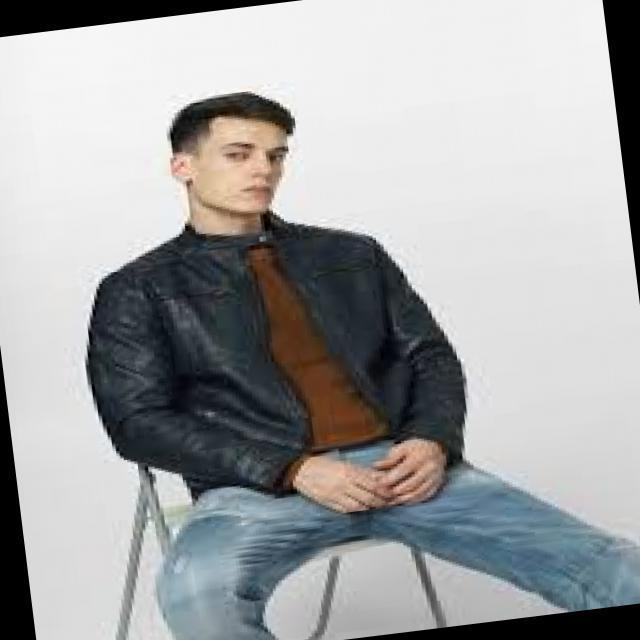jacket: (81, 210, 472, 494)
sweater: (234, 245, 389, 456)
trousers: (149, 436, 640, 640)
